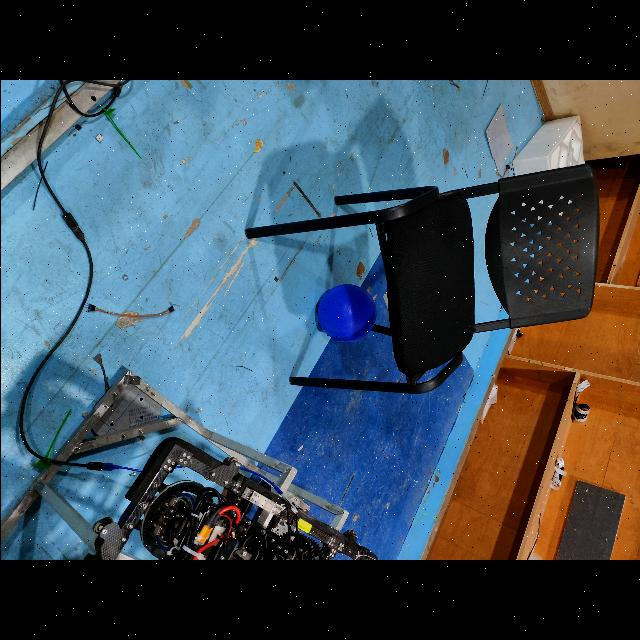B: (315, 284, 375, 342)
